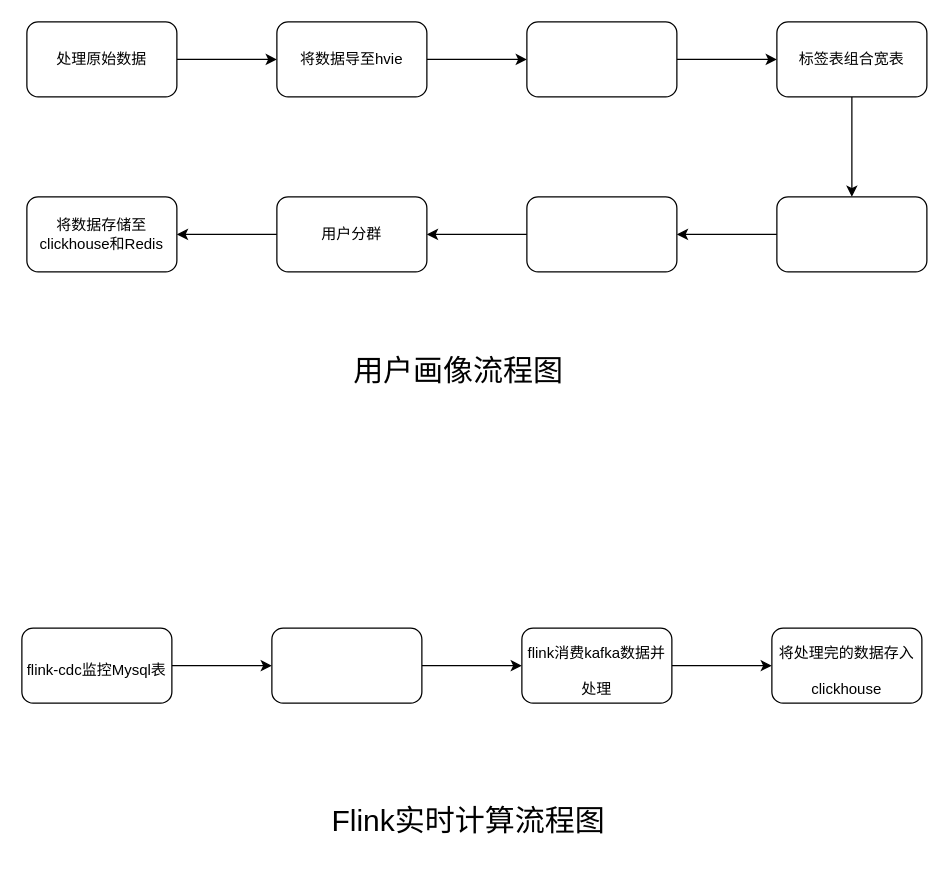
The diagram is 949 pixels wide and 869 high, and some of its shapes have lost their labels. The box of each missing label's shape, as (x1, y1, x2, y2) in pixels:
制作标签以及标签表: (526, 21, 677, 97)
宽表导入CLICKHOUSE: (776, 196, 927, 272)
将CK表转换为Birmap表: (526, 196, 677, 272)
将数据生产至kafka: (271, 627, 422, 703)
